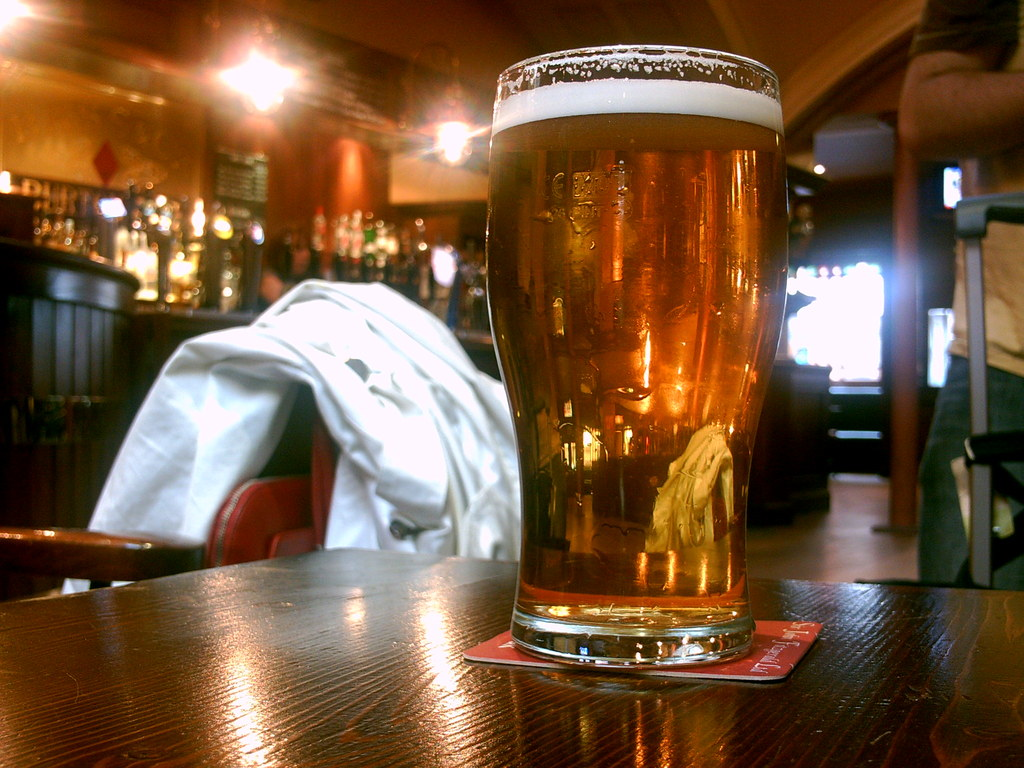Beer: (483, 76, 789, 638)
